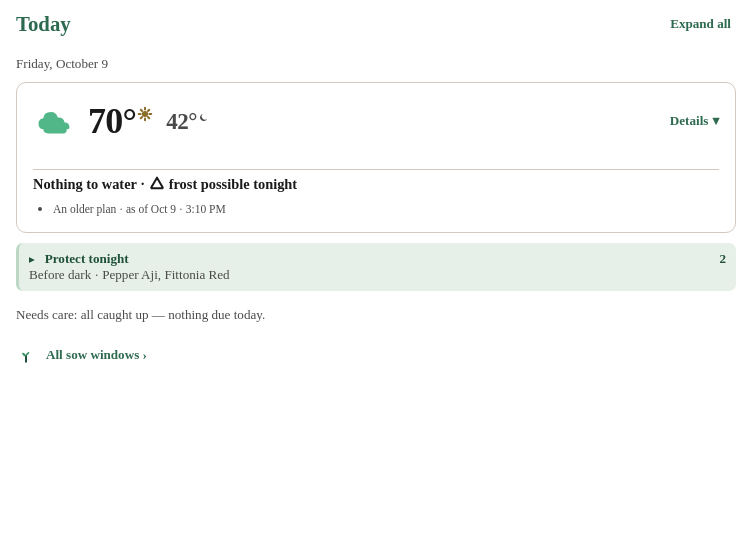
TodayV2 hands the plan date to the cue it re-words › the same night with cold cards: Protect carries the cue as its pick link, and the glance prints no cue line
What coordinates should you click on to do the following:
click the button "▸ Protect tonight 2 Before dark · Pepper Aji, Fittonia Red"
I would click on:
 (87, 258)
Its box is [19, 243, 736, 291].
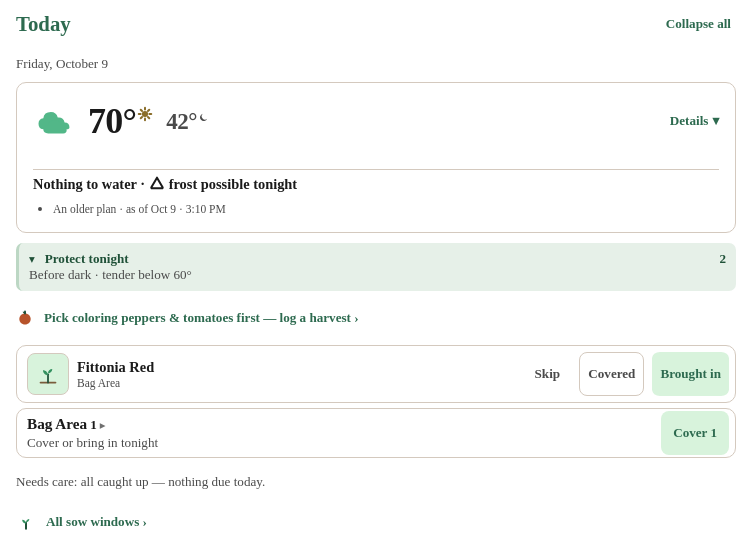
Expected: the link with test id "protect-pick" reads "Pick coloring peppers & tomatoes first — log a harvest ›", [16, 309, 359, 327]
